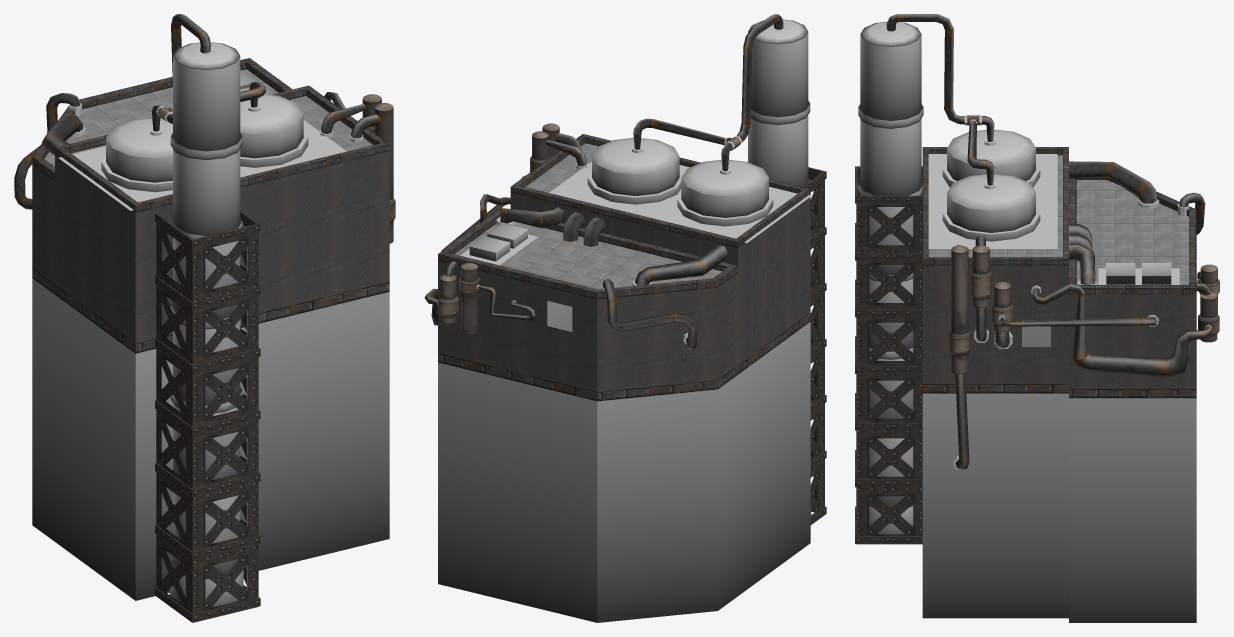
The model's file is factory_boiler_room_exterior.fbx.
3 views of the same model, side by side, from view 1: azimuth 30°, elevation 25°; view 2: azimuth 150°, elevation 25°; view 3: azimuth 270°, elevation 25° (orthographic). The views are drawn at different scales.
Parts seen in each view (by area): view 1: Building, Support, TallBoiler, BigBoilers, Pipes, Plane, BoilersExterior; view 2: Building, BigBoilers, Pipes, TallBoiler, Support, Plane, BoilersExterior, Vents; view 3: Building, Support, TallBoiler, Pipes, BigBoilers, BoilersExterior, Plane, Vents.
Part boxes in pixels (x1,y1,x2,y2): Building: [32, 58, 389, 600]; Support: [155, 209, 260, 622]; TallBoiler: [169, 42, 243, 607]; BigBoilers: [101, 94, 308, 192]; Pipes: [14, 14, 381, 209]; Plane: [58, 120, 346, 210]; BoilersExterior: [362, 94, 395, 243]; Building: [438, 134, 810, 622]; BigBoilers: [587, 137, 773, 226]; Pipes: [424, 14, 783, 349]; TallBoiler: [748, 19, 811, 515]; Support: [802, 167, 826, 524]; Plane: [549, 161, 811, 242]; BoilersExterior: [437, 123, 559, 333]; Vents: [469, 223, 527, 261]; Building: [922, 147, 1196, 622]; Support: [855, 166, 922, 544]; TallBoiler: [858, 21, 923, 534]; Pipes: [886, 14, 1212, 469]; BigBoilers: [942, 129, 1040, 241]; BoilersExterior: [949, 245, 1219, 374]; Plane: [928, 154, 1057, 248]; Vents: [1106, 262, 1171, 284].
Size of the model in its own units: 4983 by 9011 by 5775.
